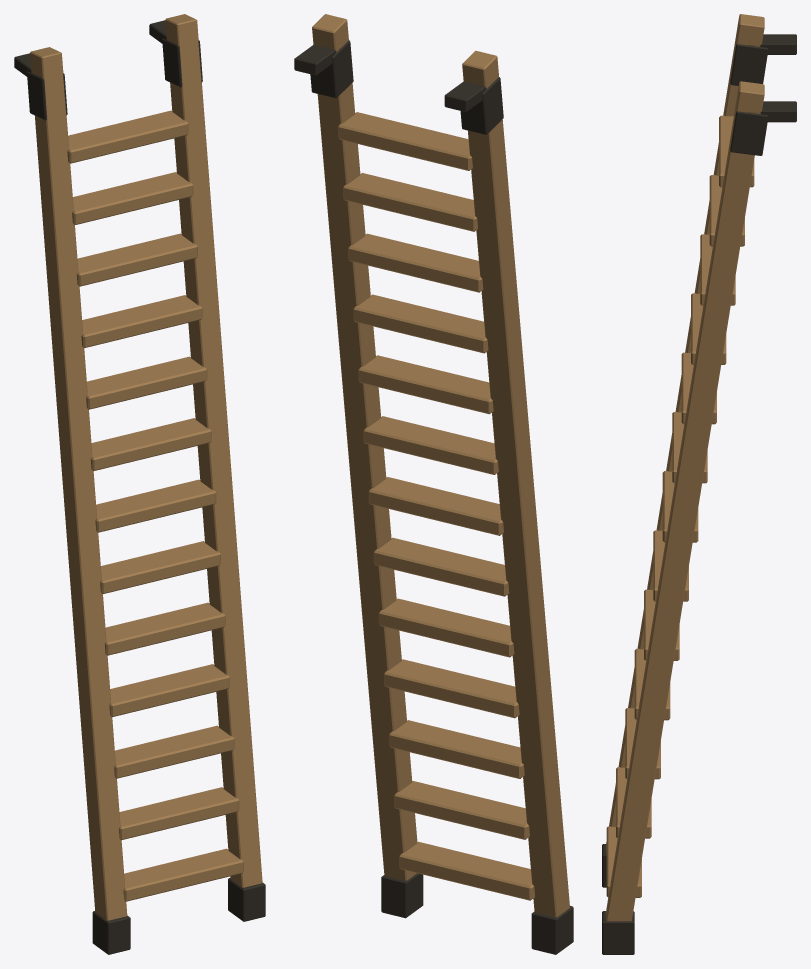
The model's file is Library_Ladder.fbx.
The picture shows the model from 3 angles, left to right: view 1: azimuth 30°, elevation 25°; view 2: azimuth 150°, elevation 25°; view 3: azimuth 270°, elevation 25°; orthographic projection. The views are drawn at different scales.
Parts seen in each view (by area): view 1: Left_rail, Right_rail, Step_12, Step_09, Step_13, Step_11, Step_07, Step_10, Step_08, Step_06, Step_05, Step_02 (+7 smaller); view 2: Left_rail, Right_rail, Step_01, Step_02, Step_05, Step_03, Step_06, Step_04, Step_07, Step_08, Step_09, Step_10 (+9 smaller); view 3: Right_rail, Left_rail, Right_top_bracket, Left_top_bracket, Right_foot_cap, Step_13, Step_07, Step_04, Step_12, Right_top_hook, Step_11, Step_09 (+8 smaller).
Boxes of the visible parts, x1=… form: Left_rail: x1=30, y1=47, x2=127, y2=920; Right_rail: x1=165, y1=14, x2=262, y2=887; Step_12: x1=72, y1=172, x2=193, y2=224; Step_09: x1=86, y1=356, x2=207, y2=409; Step_13: x1=67, y1=110, x2=188, y2=163; Step_11: x1=76, y1=233, x2=197, y2=286; Step_07: x1=95, y1=479, x2=216, y2=532; Step_10: x1=81, y1=295, x2=202, y2=347; Step_08: x1=90, y1=418, x2=211, y2=470; Step_06: x1=100, y1=541, x2=220, y2=593; Step_05: x1=104, y1=602, x2=225, y2=655; Step_02: x1=118, y1=787, x2=239, y2=840; Left_rail: x1=462, y1=50, x2=569, y2=917; Right_rail: x1=312, y1=14, x2=417, y2=880; Step_01: x1=399, y1=841, x2=534, y2=900; Step_02: x1=394, y1=781, x2=529, y2=839; Step_05: x1=378, y1=598, x2=514, y2=657; Step_03: x1=389, y1=720, x2=524, y2=778; Step_06: x1=373, y1=537, x2=509, y2=596; Step_04: x1=384, y1=659, x2=519, y2=718; Step_07: x1=368, y1=477, x2=503, y2=535; Step_08: x1=363, y1=416, x2=498, y2=474; Step_09: x1=358, y1=355, x2=493, y2=414; Step_10: x1=353, y1=294, x2=488, y2=353; Right_rail: x1=606, y1=81, x2=764, y2=921; Left_rail: x1=606, y1=14, x2=764, y2=853; Right_top_bracket: x1=730, y1=111, x2=768, y2=155; Left_top_bracket: x1=730, y1=44, x2=768, y2=85; Right_foot_cap: x1=602, y1=911, x2=634, y2=954; Step_13: x1=719, y1=115, x2=754, y2=187; Step_07: x1=662, y1=471, x2=698, y2=542; Step_04: x1=634, y1=648, x2=670, y2=720; Step_12: x1=709, y1=175, x2=744, y2=246; Right_top_hook: x1=749, y1=101, x2=796, y2=122; Step_11: x1=700, y1=234, x2=735, y2=305; Step_09: x1=681, y1=352, x2=716, y2=424.
Size of the model in its own units: 1.31 by 6.71 by 1.37.
